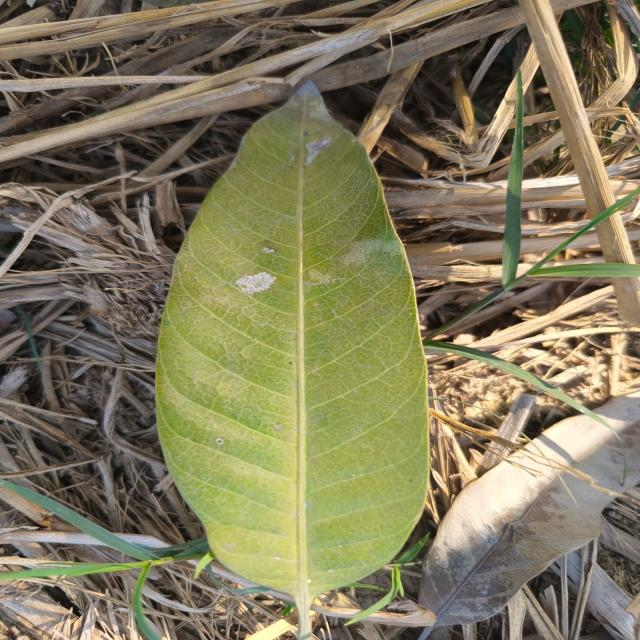Powdery Mildew: (236, 273, 276, 294), (306, 137, 331, 164), (263, 247, 276, 252)
